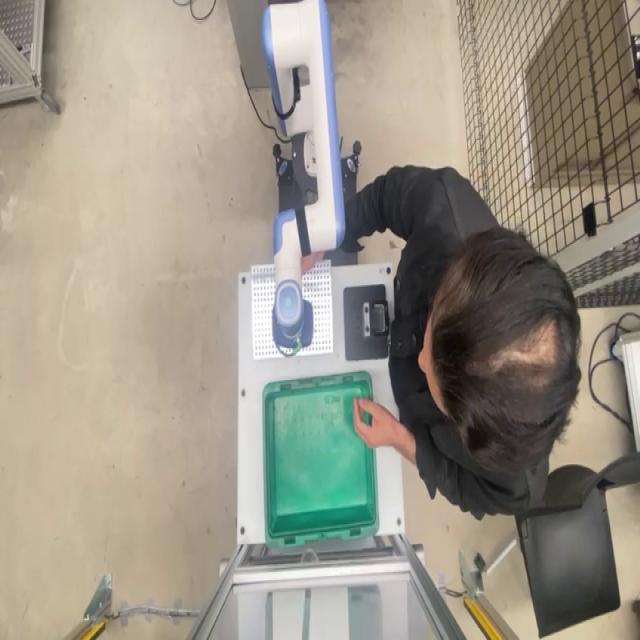human: (300, 160, 582, 520)
robot: (259, 0, 349, 356)
